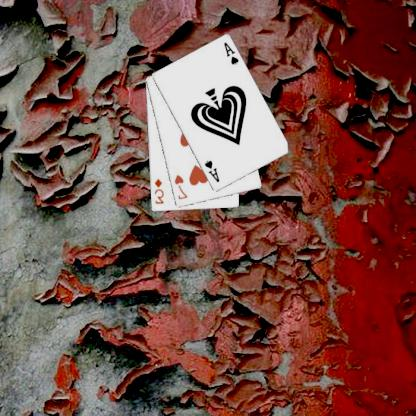3D: (154, 176, 166, 205)
7H: (174, 172, 190, 201)
AS: (223, 40, 242, 66), (204, 158, 222, 184)
